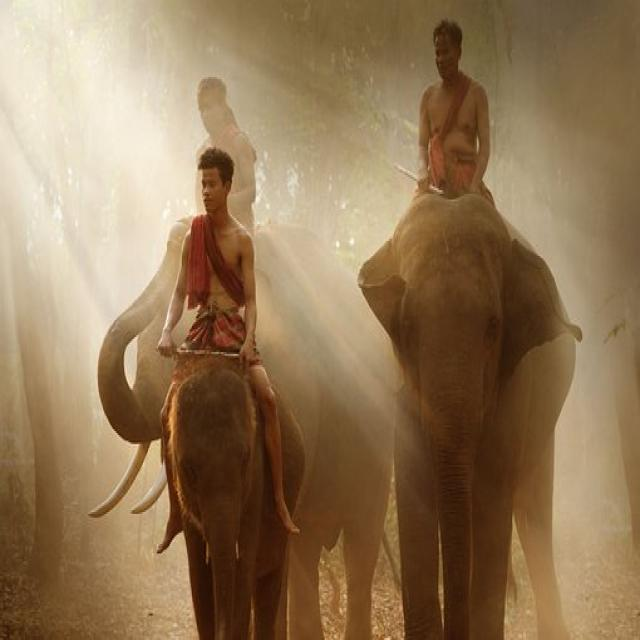Elephant: (350, 160, 623, 640), (155, 364, 341, 640)
